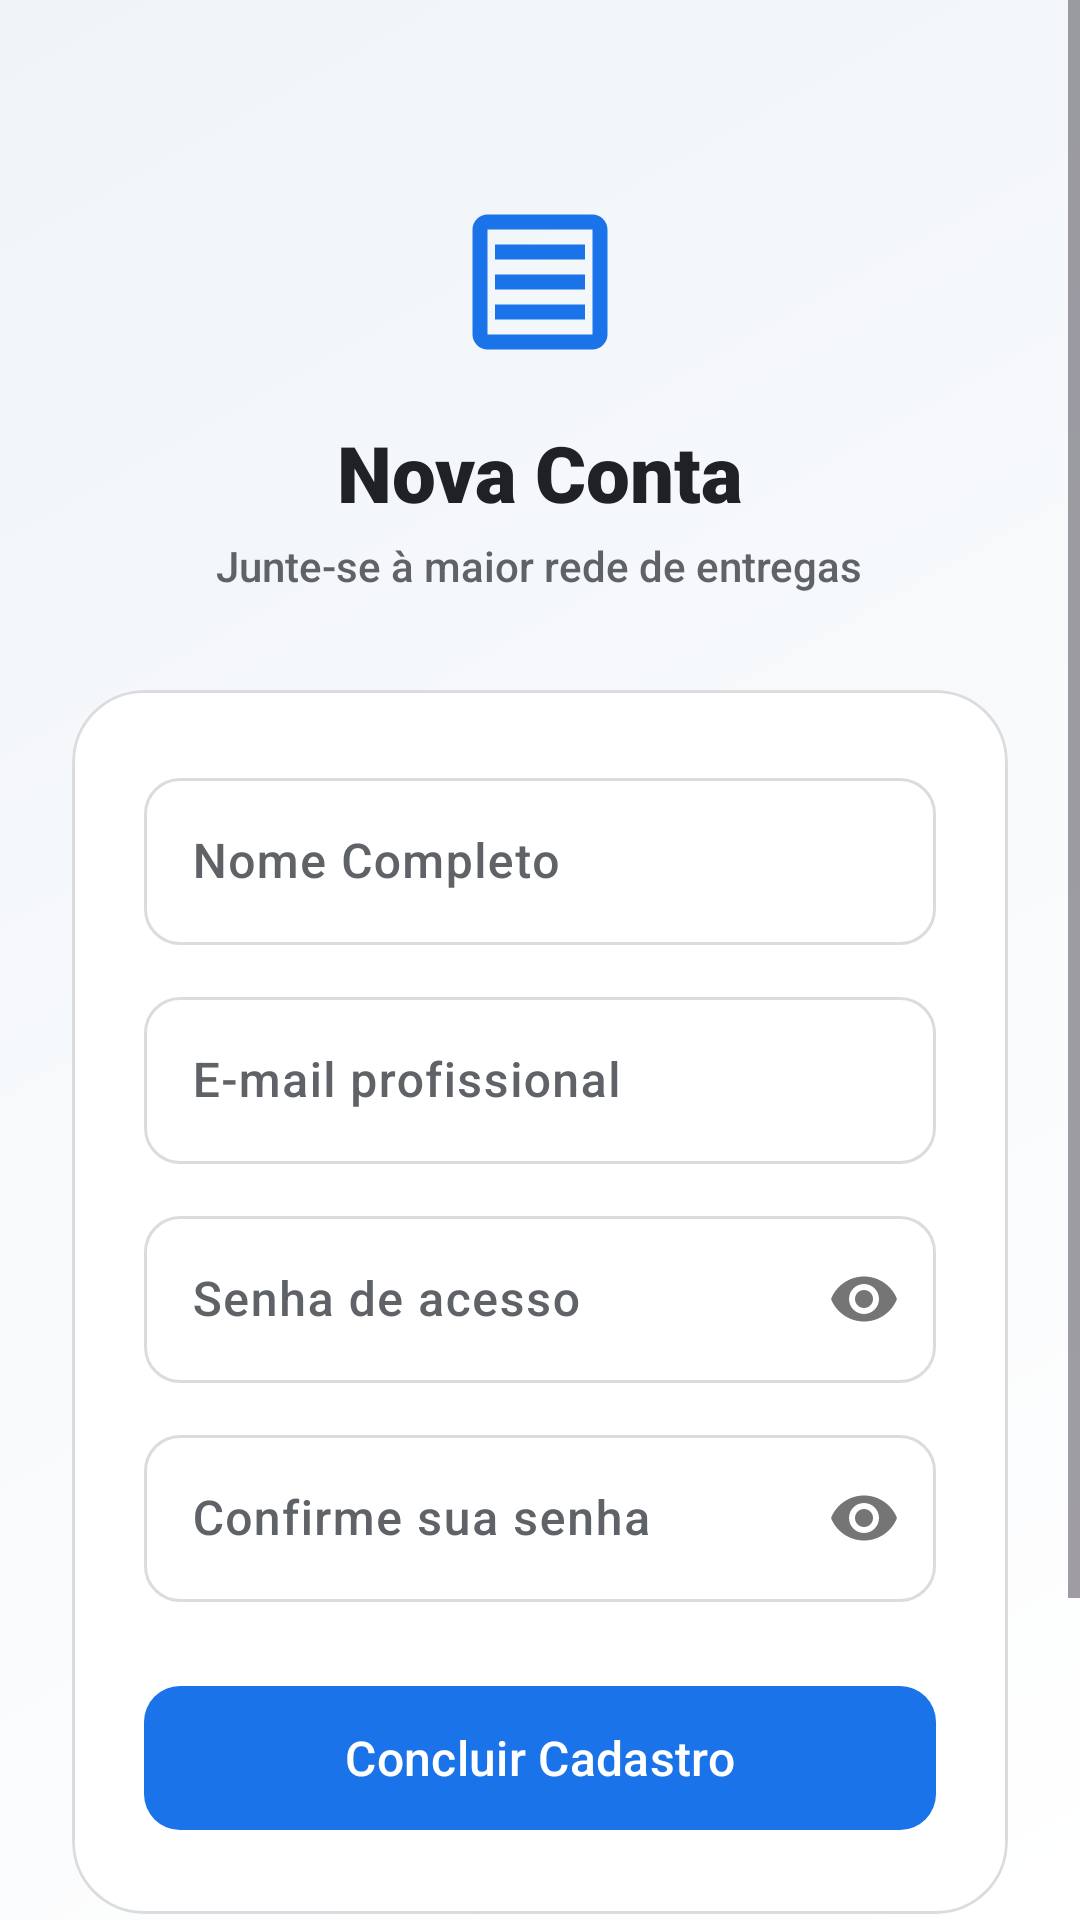

Where to tap for icons on this 1080 x 1920 app screen, as point (x, y):
orders: point (540, 282)
